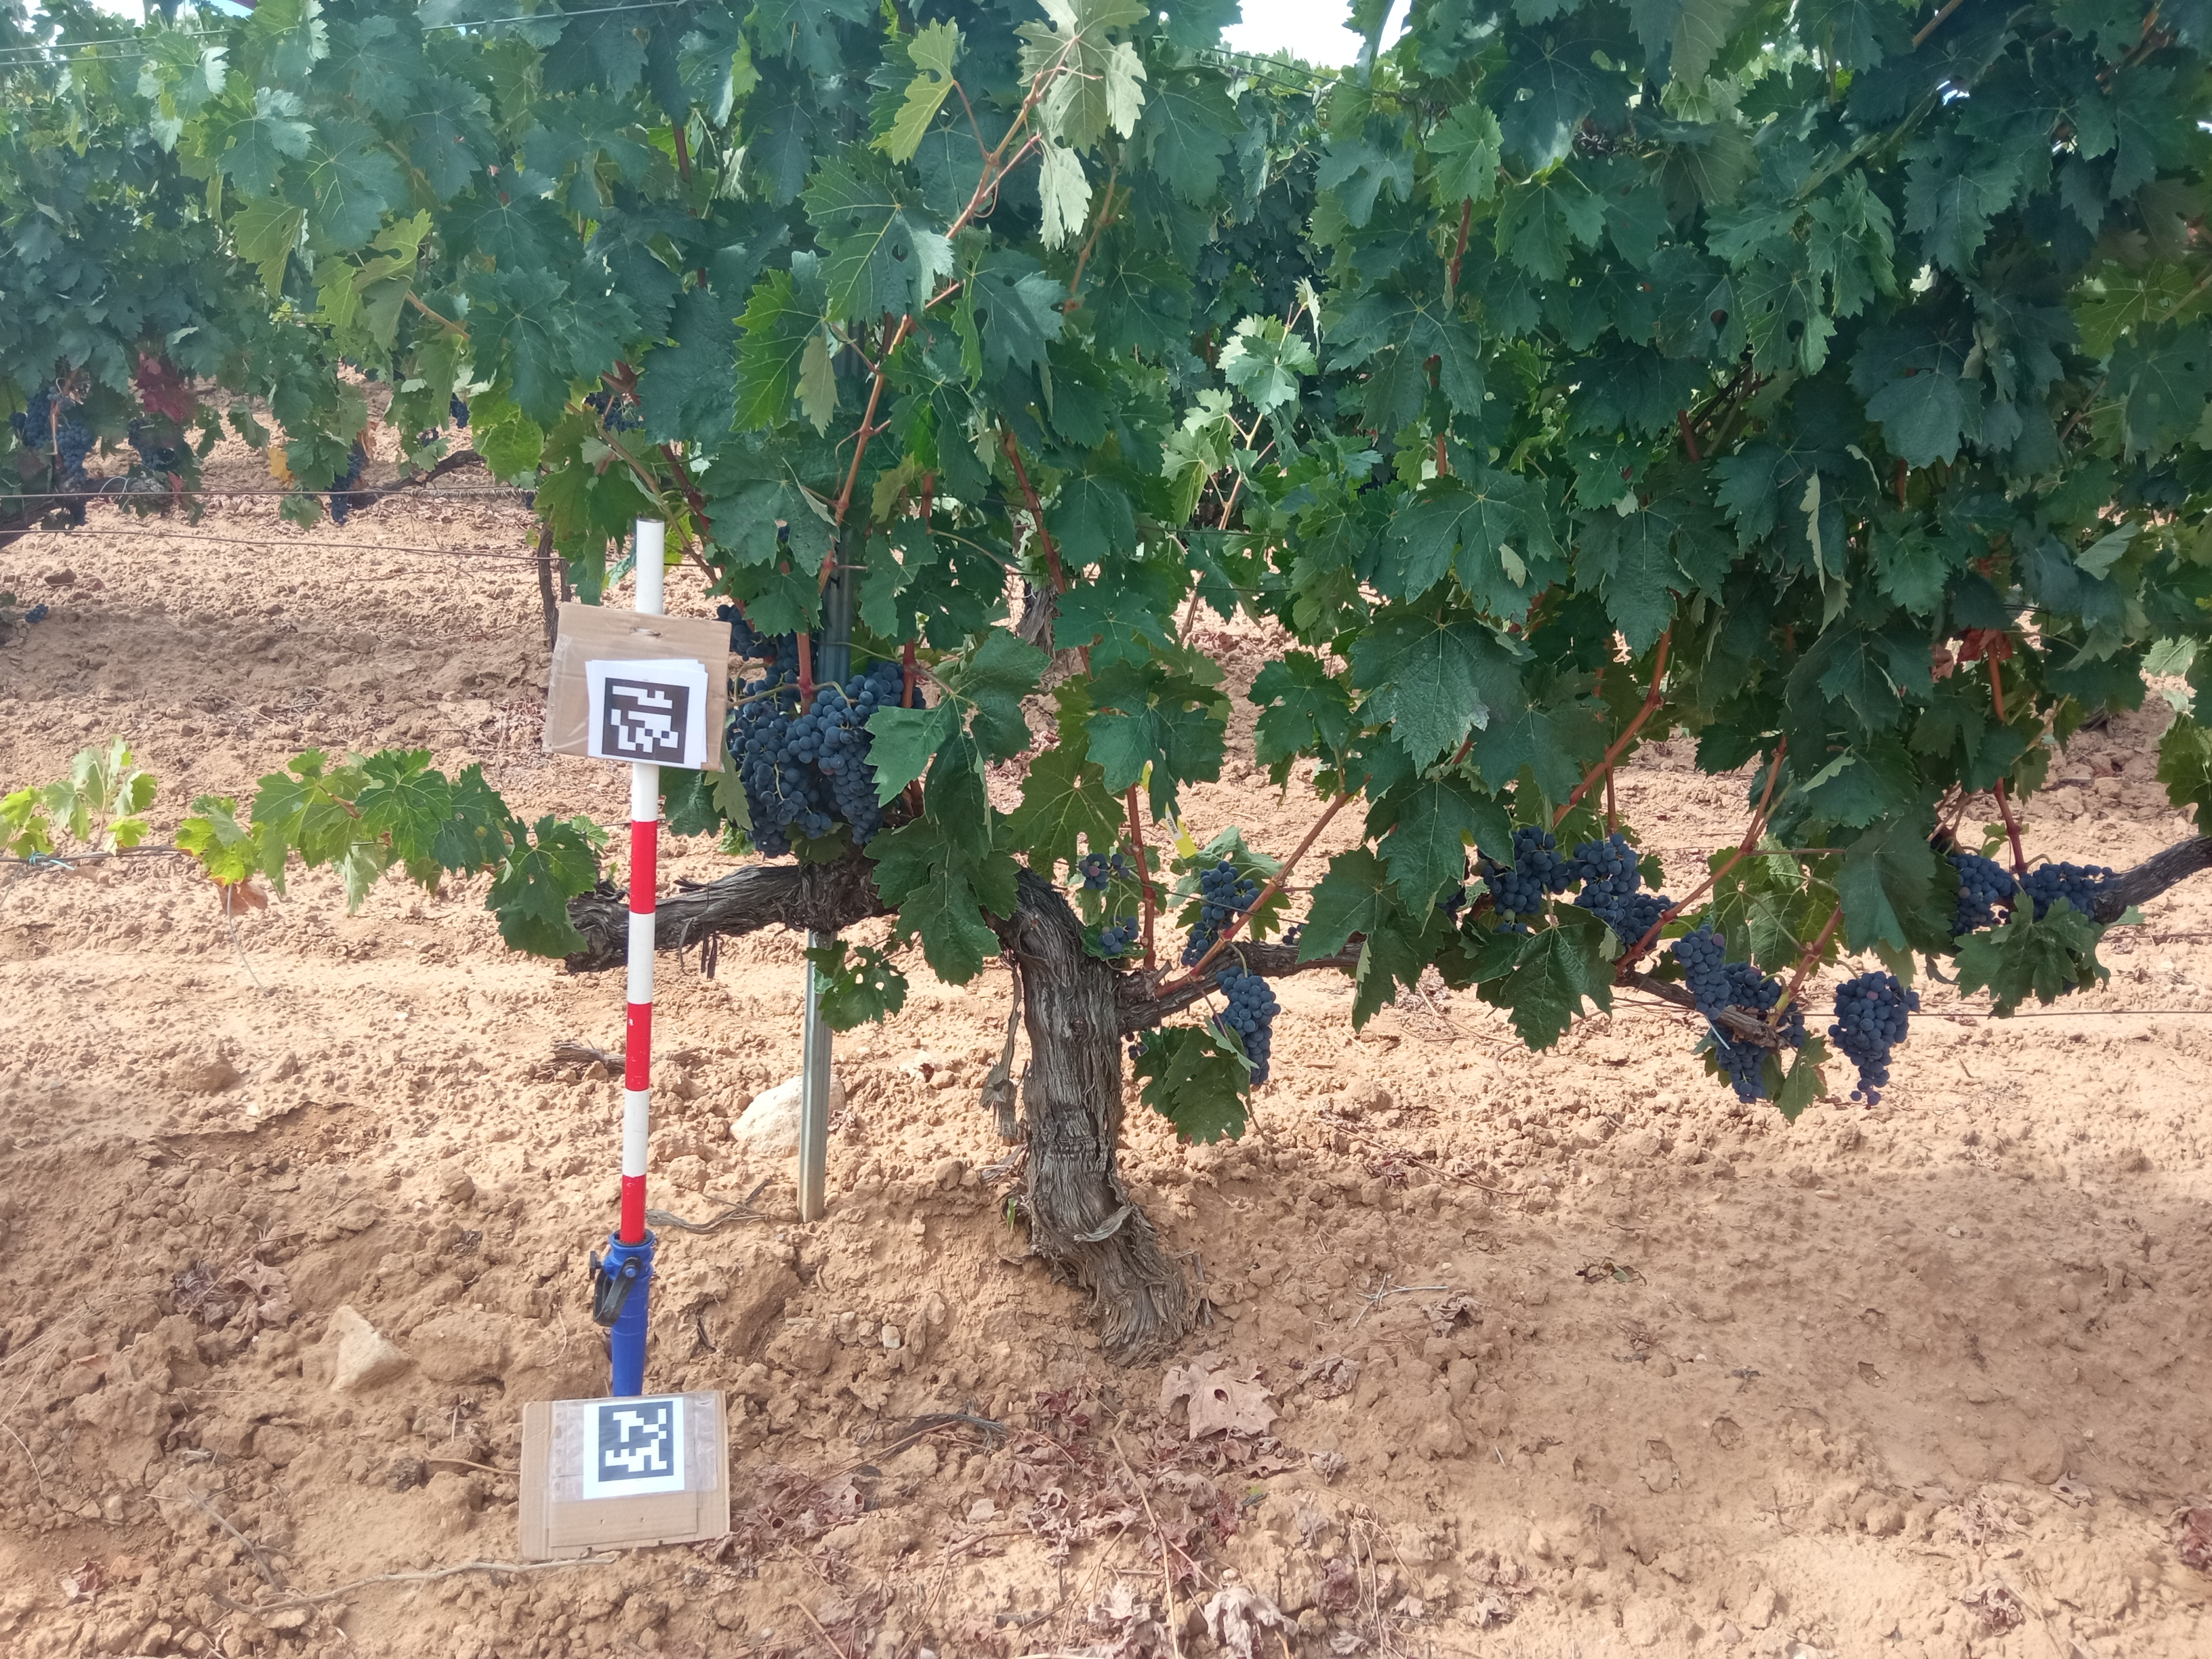grapes: (723, 674, 834, 861), (786, 687, 904, 850), (1824, 967, 1925, 1110), (1468, 823, 1571, 936), (1211, 962, 1284, 1089), (1179, 856, 1261, 969), (1719, 958, 1808, 1051), (705, 601, 819, 673), (1568, 828, 1641, 936), (1942, 850, 2013, 948), (2006, 861, 2127, 918), (1669, 922, 1733, 1025), (841, 655, 932, 714), (1710, 1025, 1768, 1107), (1613, 894, 1684, 950), (1075, 849, 1132, 892), (1094, 911, 1141, 960), (1442, 880, 1468, 927), (1280, 920, 1306, 948), (1461, 854, 1472, 885)
